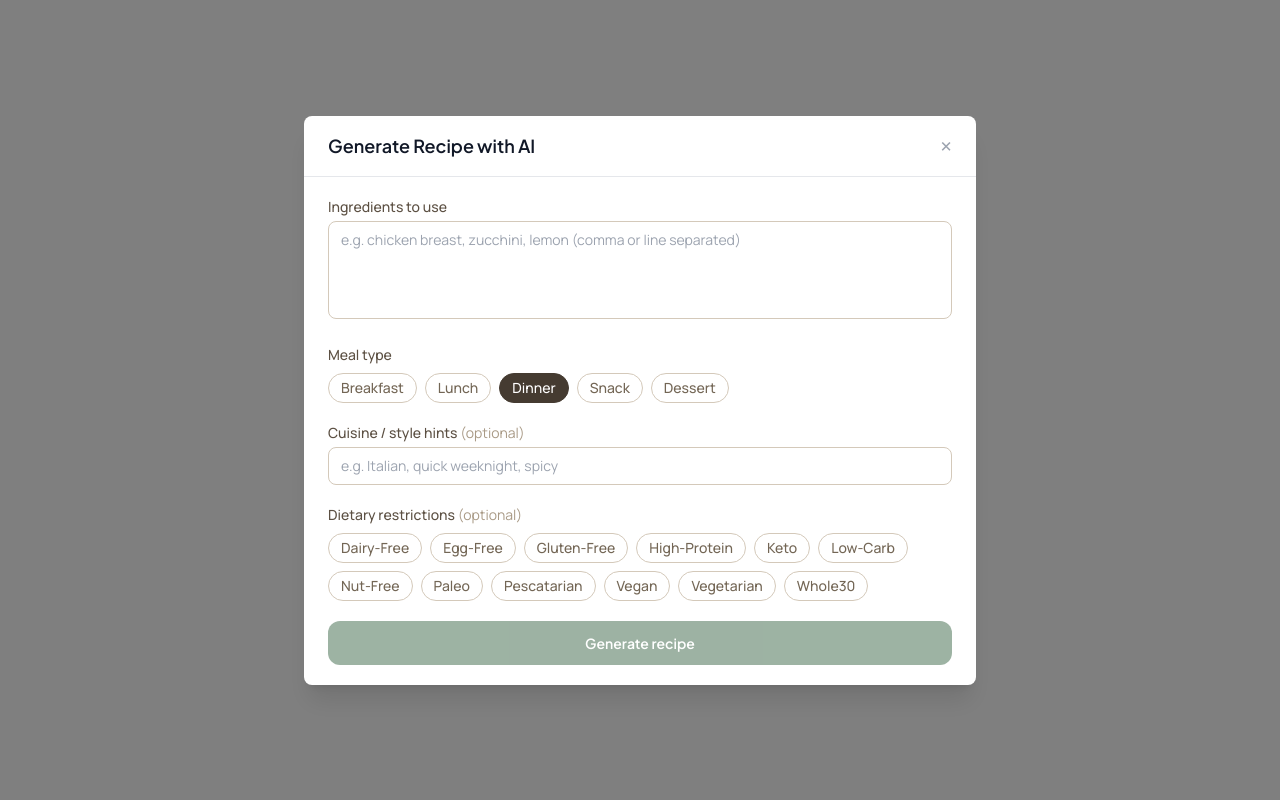
it: T01(25) - Chat panel shown after generation › shows GenerateRecipeChatPanel instead of RecipeForm after generation
This screenshot has width=1280, height=800.
Replace the text in the text box with placeholder "e.g. chicken breast" with "chicken breast": (640, 270) x1=328 y1=220 x2=952 y2=318
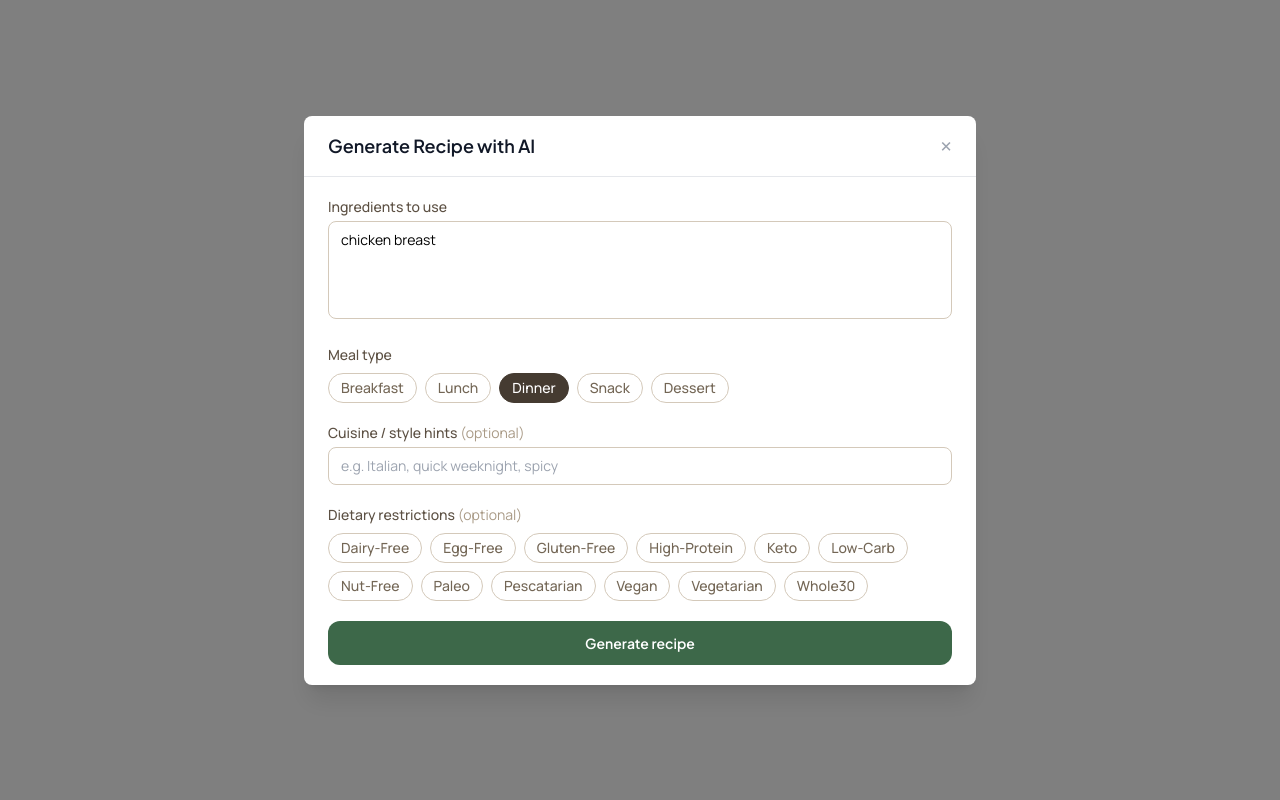
Click the button "Generate recipe": (640, 642) x1=328 y1=620 x2=952 y2=664
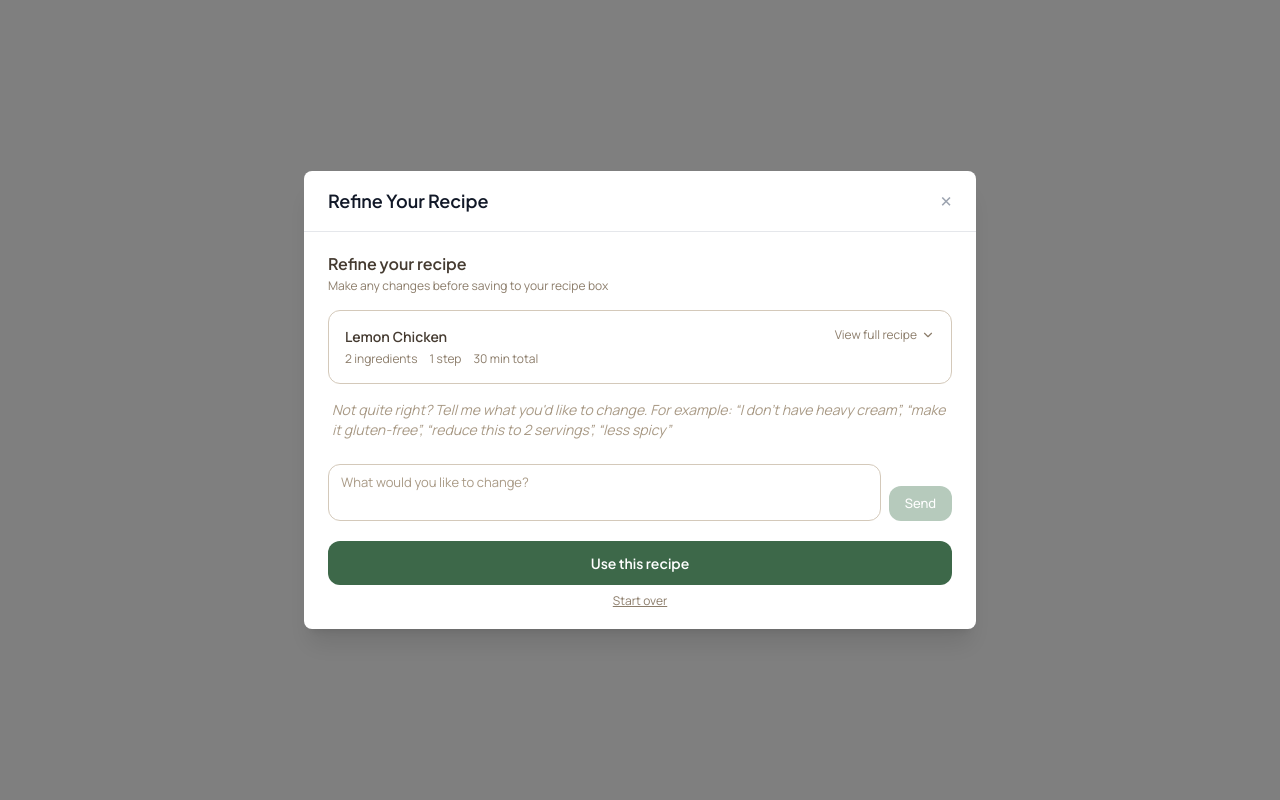
Now the button "Use this recipe" is shown, box x1=328 y1=541 x2=952 y2=585
